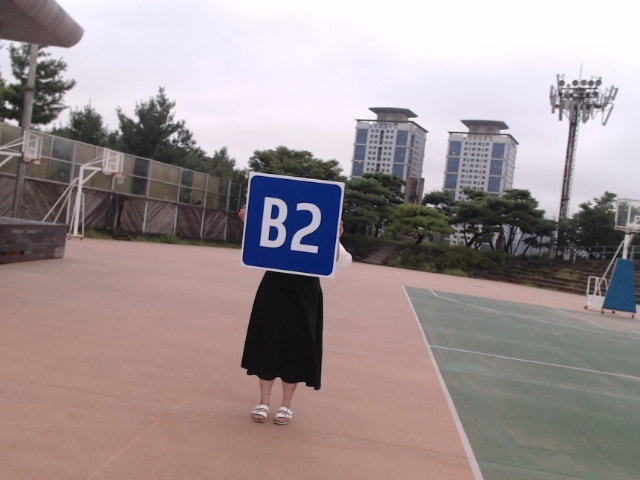delivery_b2: (240, 173, 343, 278)
